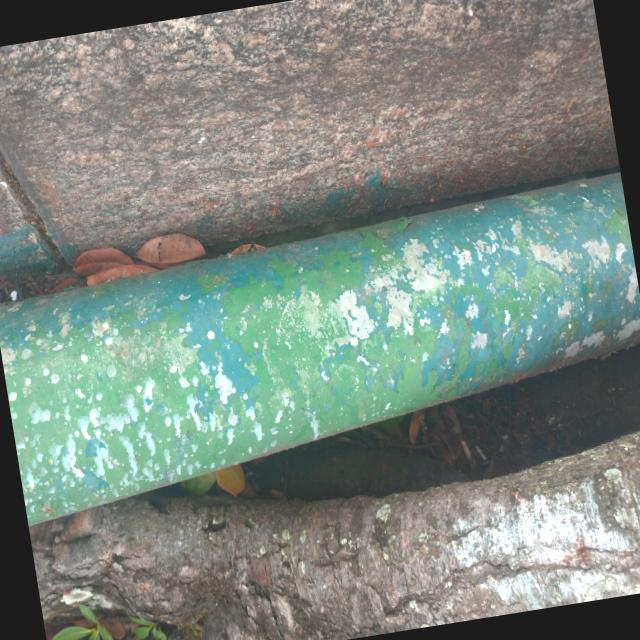gas: (0, 172, 640, 528)
